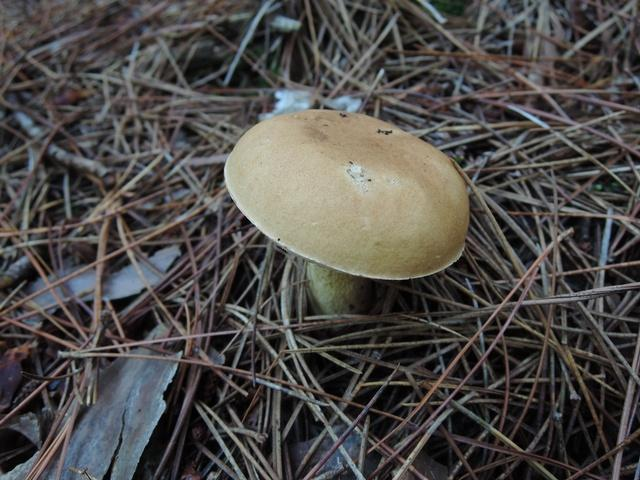Non-edible Mushroom: (222, 107, 470, 317)
